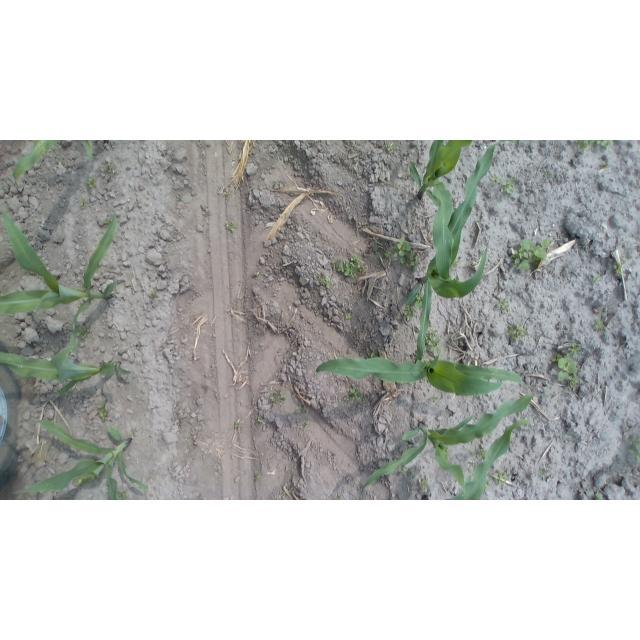Maize: (405, 141, 508, 370), (361, 392, 556, 499), (0, 201, 122, 339), (14, 416, 150, 500), (314, 350, 526, 394), (1, 335, 134, 402), (446, 417, 534, 500), (411, 140, 480, 218), (11, 141, 105, 187)
Weeds: (511, 237, 553, 274), (551, 353, 581, 389), (394, 237, 422, 268), (332, 254, 364, 278), (491, 173, 518, 196), (423, 328, 443, 354), (507, 321, 530, 343), (569, 140, 615, 150), (343, 387, 364, 405), (315, 272, 332, 290), (74, 324, 92, 341), (492, 467, 508, 485), (73, 477, 99, 488), (592, 316, 608, 333), (270, 388, 287, 404), (97, 402, 109, 423), (417, 478, 433, 493), (401, 466, 418, 480), (225, 219, 240, 234), (567, 342, 583, 356), (498, 296, 512, 312), (537, 465, 552, 479), (295, 402, 311, 415), (468, 448, 486, 459), (105, 162, 115, 181), (404, 304, 415, 321), (414, 292, 424, 310), (628, 449, 640, 463), (592, 270, 605, 282), (270, 178, 285, 188), (87, 175, 97, 189), (116, 489, 130, 499), (466, 462, 477, 474), (384, 140, 395, 152), (429, 393, 442, 403), (150, 289, 161, 300), (174, 193, 186, 203), (78, 198, 90, 208), (300, 419, 311, 429), (371, 241, 381, 252), (614, 264, 624, 275), (234, 418, 243, 430), (368, 351, 380, 360), (449, 259, 459, 269), (253, 472, 263, 482), (103, 218, 114, 227), (128, 428, 137, 439), (255, 414, 264, 424), (546, 171, 555, 181), (595, 491, 605, 500), (602, 160, 611, 170), (223, 189, 233, 197), (630, 437, 640, 445), (320, 401, 329, 409), (333, 493, 345, 499), (384, 250, 392, 259), (280, 492, 288, 500), (485, 482, 492, 491), (623, 254, 629, 260), (254, 271, 260, 277), (345, 314, 352, 319), (634, 362, 639, 367)
